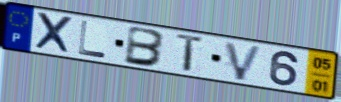6: (269, 49, 302, 88)
B: (123, 24, 168, 69)
L: (77, 19, 109, 60)
T: (174, 32, 207, 74)
V: (223, 40, 266, 83)
X: (33, 10, 75, 56)
